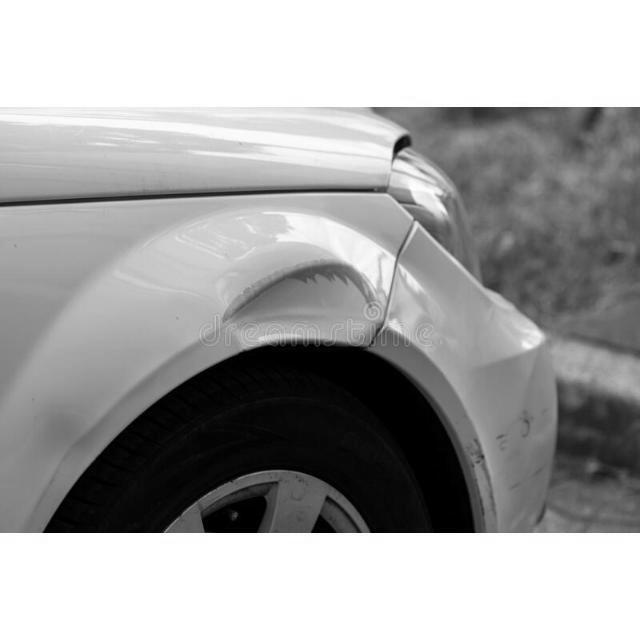fender-dent: (1, 187, 386, 488)
front-bumper-dent: (385, 232, 565, 532)
